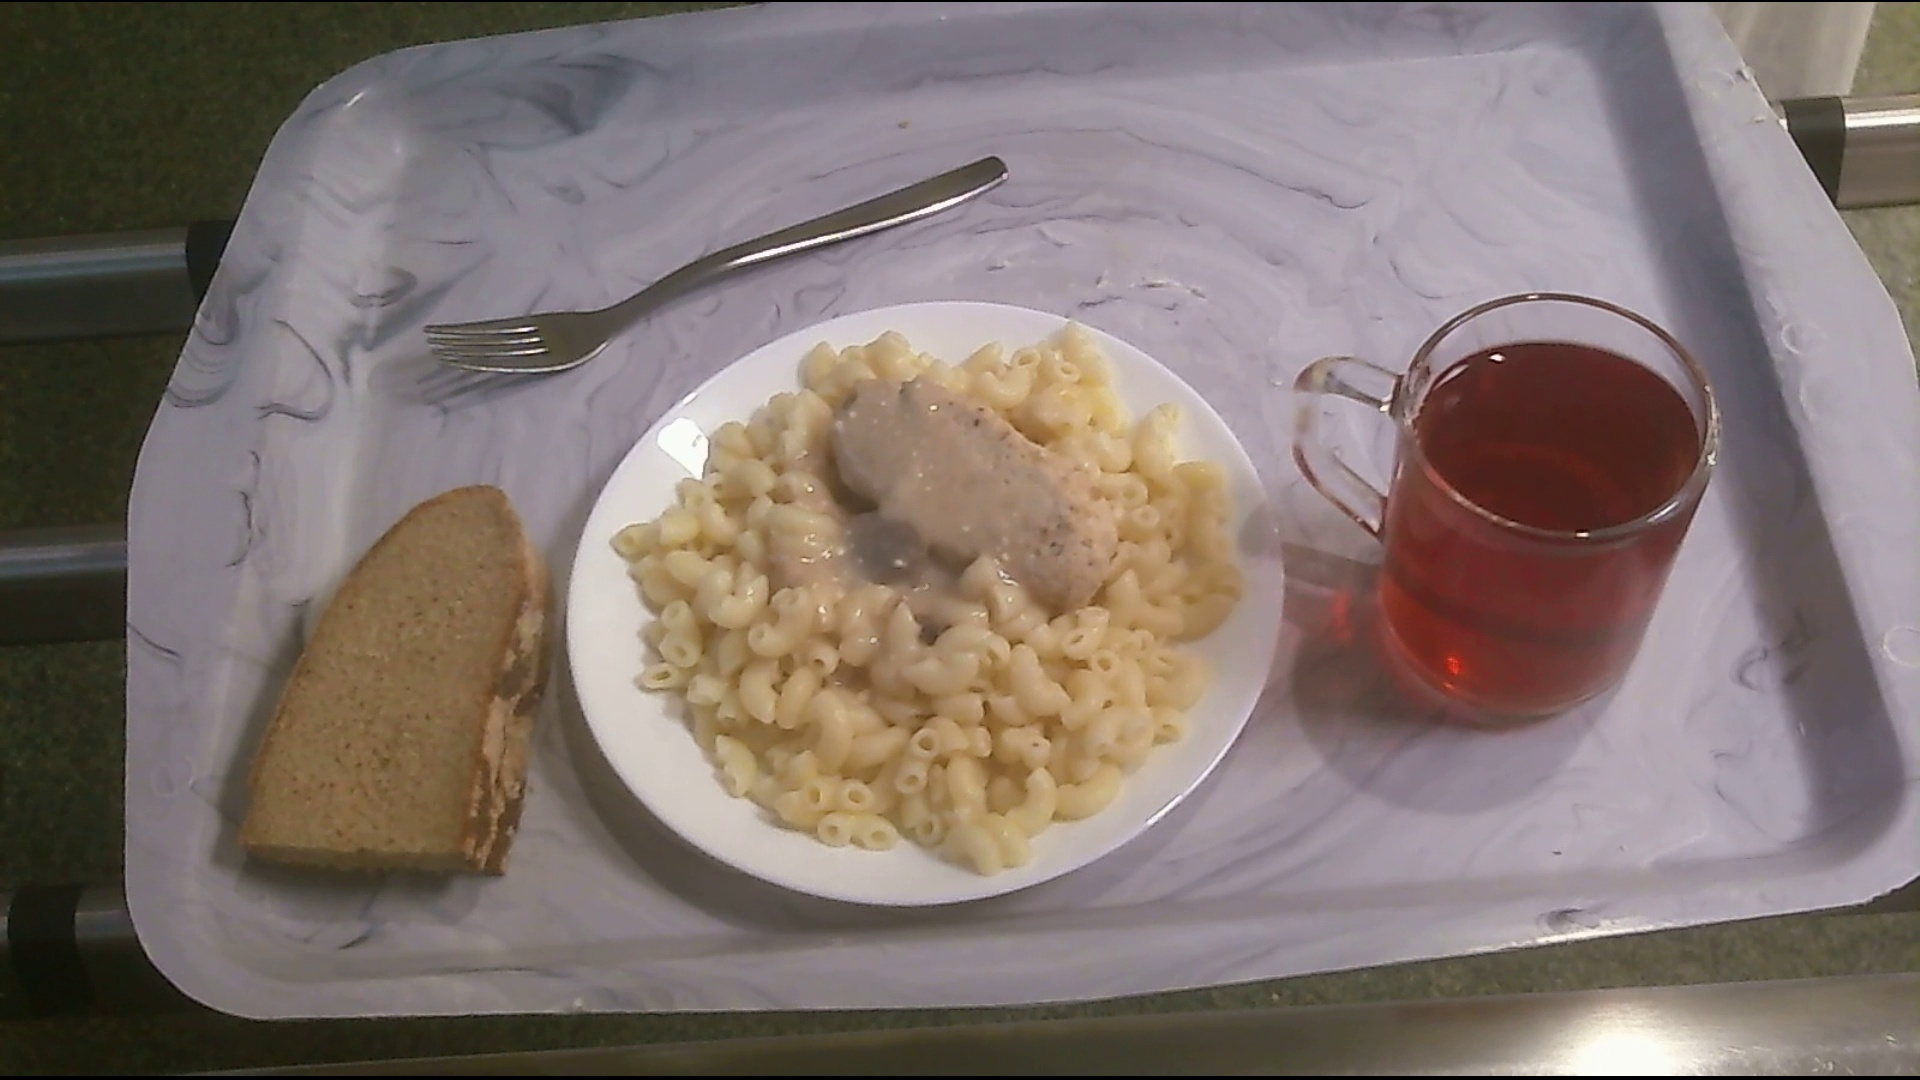cutlery: (422, 160, 1034, 376)
drink: (1290, 294, 1712, 713)
other: (243, 484, 549, 895)
plate: (563, 320, 1259, 890)
